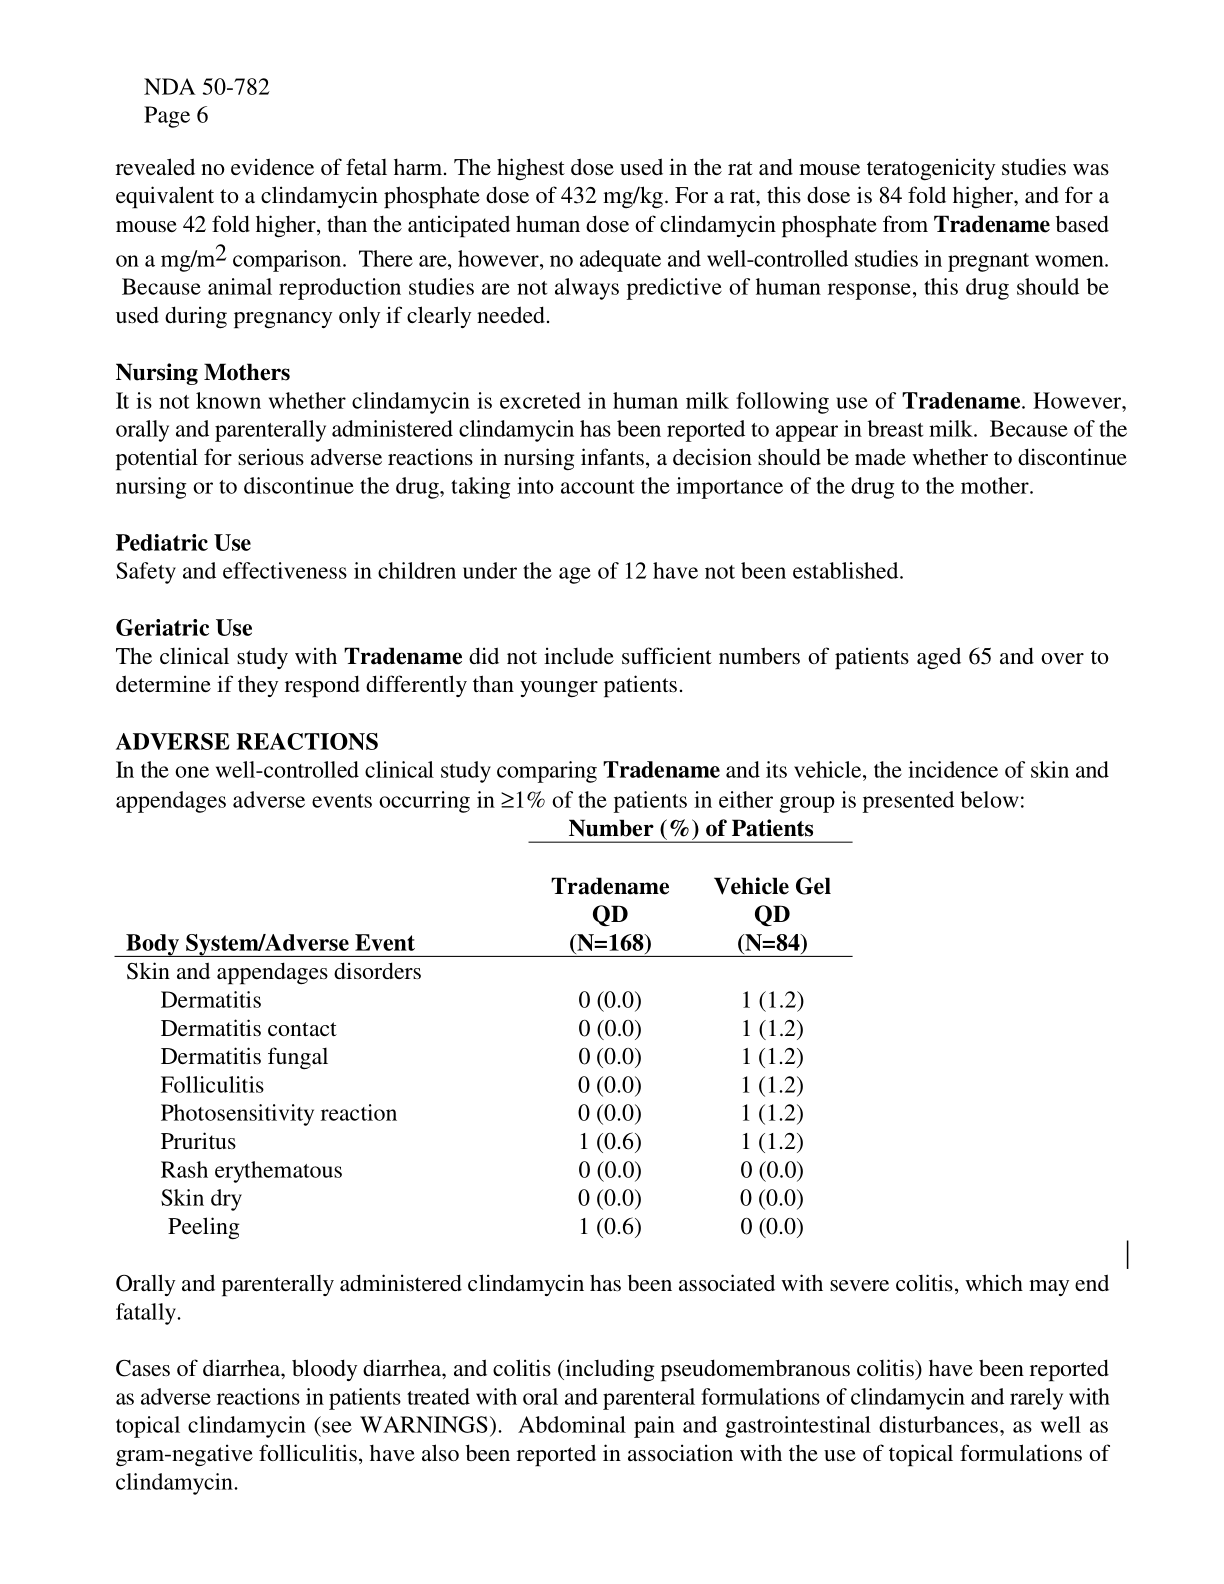partial_lined: (112, 818, 858, 1241)
